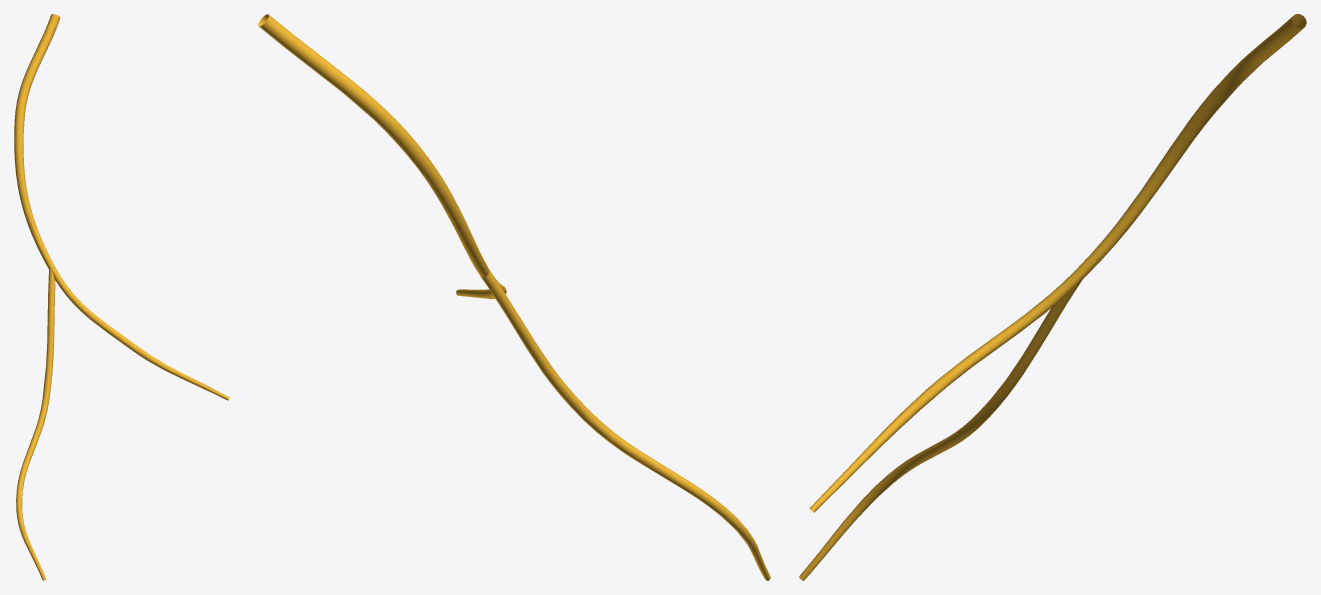
Rendered from nervoso-medial-pectoral-nerve-r.glb.
3 renders of one model, left to right at view 1: azimuth 30°, elevation 25°; view 2: azimuth 150°, elevation 25°; view 3: azimuth 270°, elevation 25°, orthographic. The views are drawn at different scales.
Visible parts, largest first — view 1: Medial pectoral nerve.r; view 2: Medial pectoral nerve.r; view 3: Medial pectoral nerve.r.
Boxes of the visible parts, x1,y1,x2,y2 form: Medial pectoral nerve.r: [14, 14, 229, 580]; Medial pectoral nerve.r: [258, 14, 770, 580]; Medial pectoral nerve.r: [799, 14, 1306, 580].
Size of the model in its own units: 0.0455 by 0.0932 by 0.0616.
